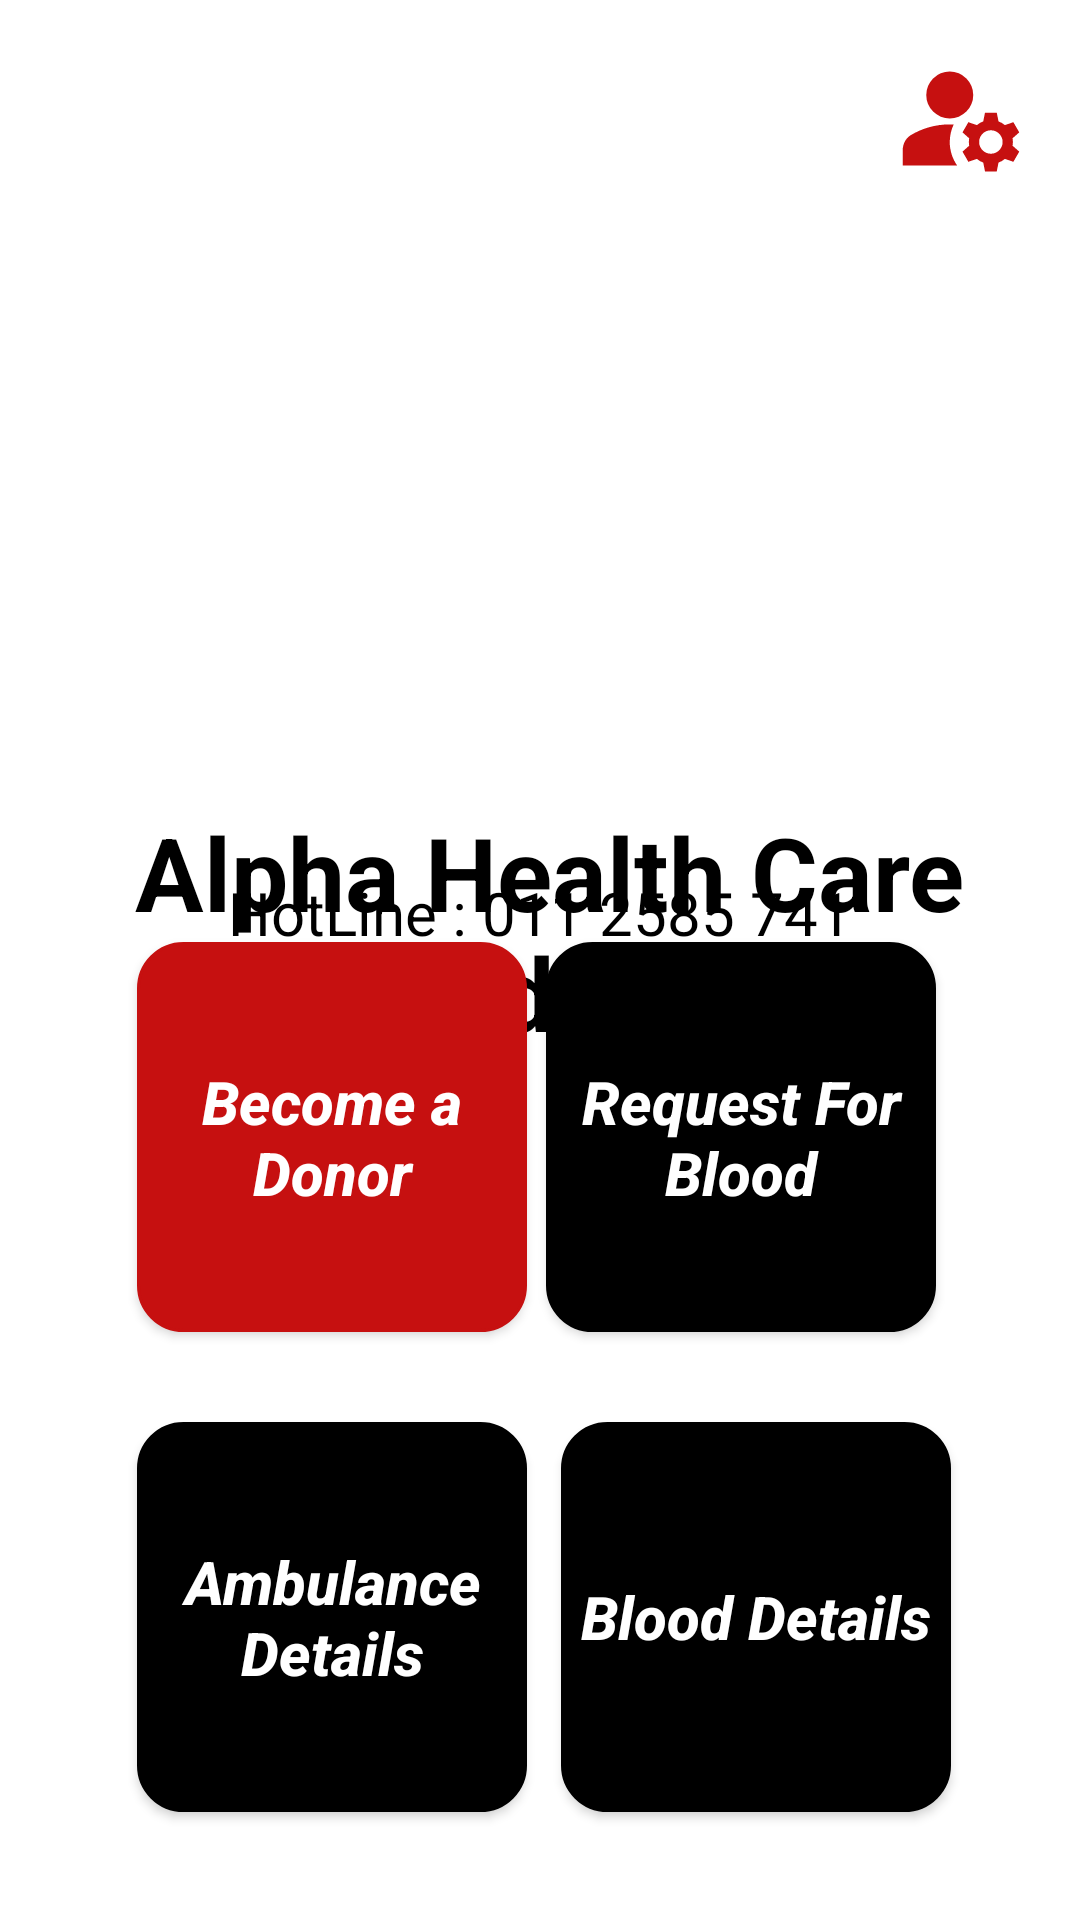

Where to tap for icons on this 1080x1920 app screen, as (x=x, y=y):
manage accounts: (x=960, y=121)
